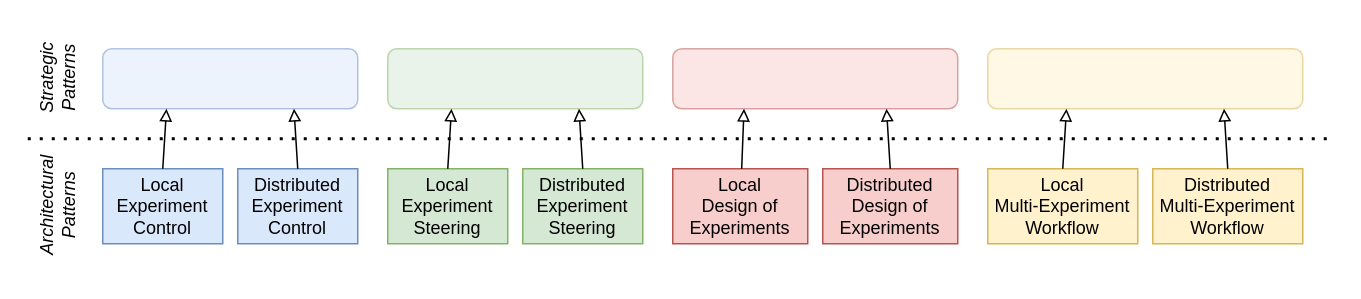
Image size: 1361x299. Some labels were removed from this diagram. Each missing label, with the centre of its shape:
Design of Experiments: point 814,78
Experiment Control: point 229,78
Experiment Steering: point 514,78
Multi-Experiment Workflow: point 1144,78
